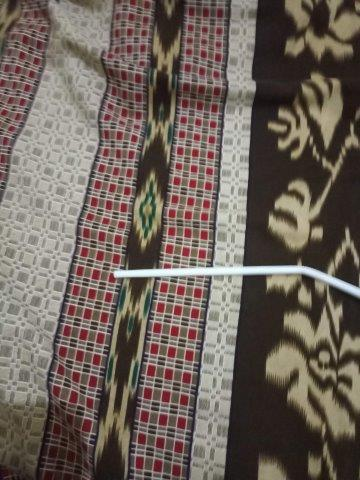sedotan: (112, 265, 360, 297)
